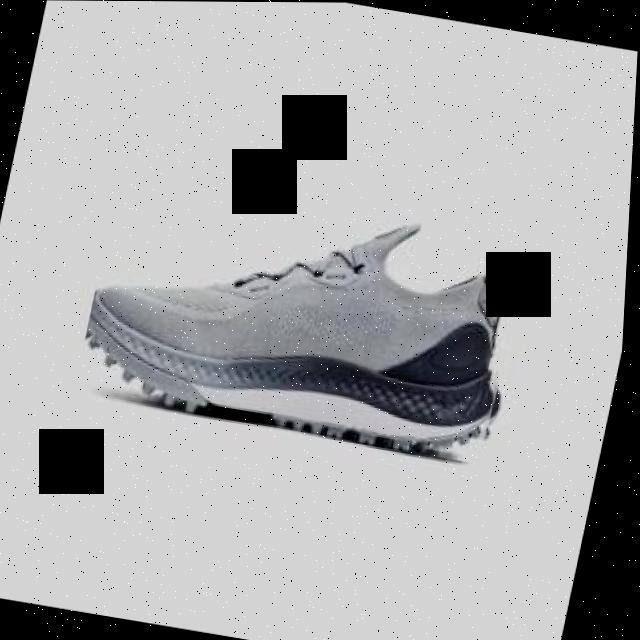shoe: (75, 169, 542, 465)
